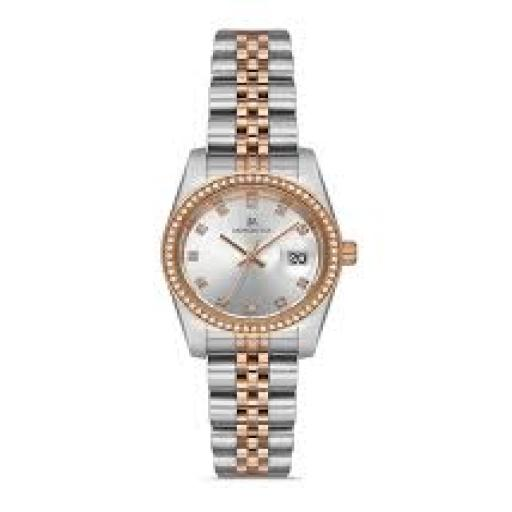KolSaati: (153, 12, 366, 498)
